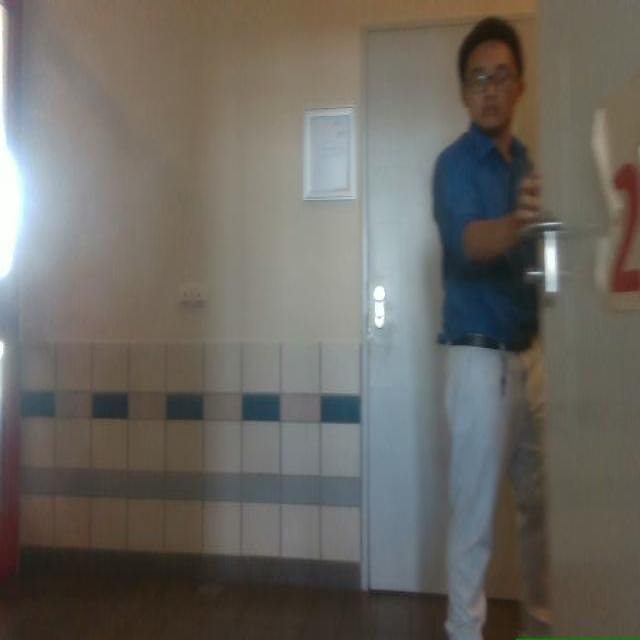humans: (433, 17, 551, 636)
objects: (538, 0, 639, 636)
